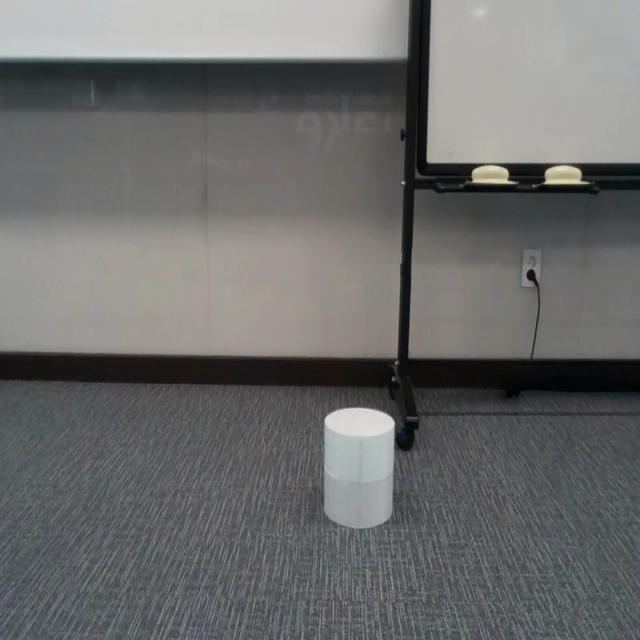cylinder: (323, 407, 395, 528)
